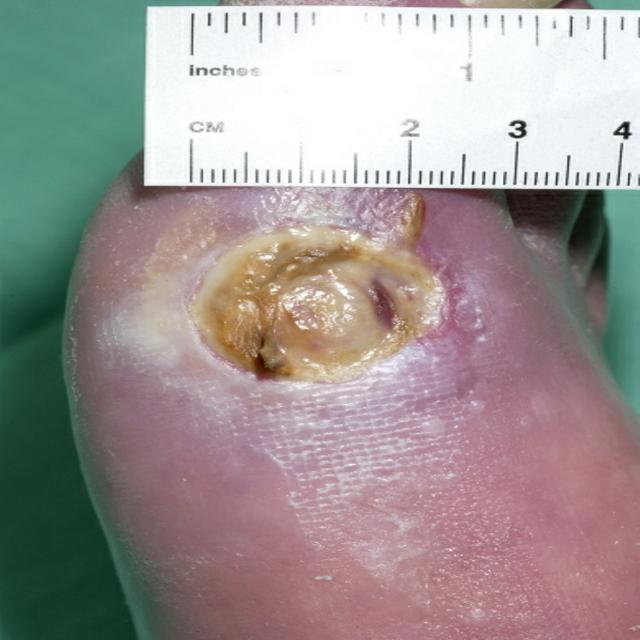wound: (184, 190, 447, 386)
